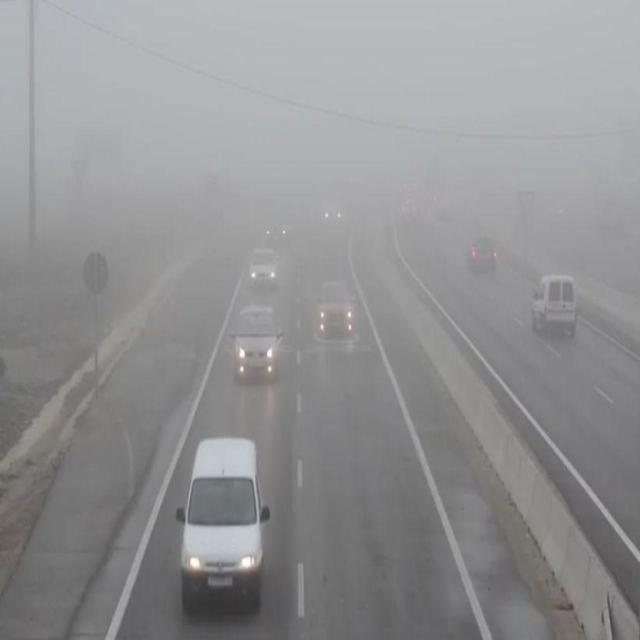Car: (175, 434, 271, 613), (232, 300, 281, 389), (532, 271, 580, 342), (312, 275, 355, 349), (247, 240, 279, 292), (464, 238, 499, 284), (320, 199, 348, 239), (263, 219, 291, 243)
